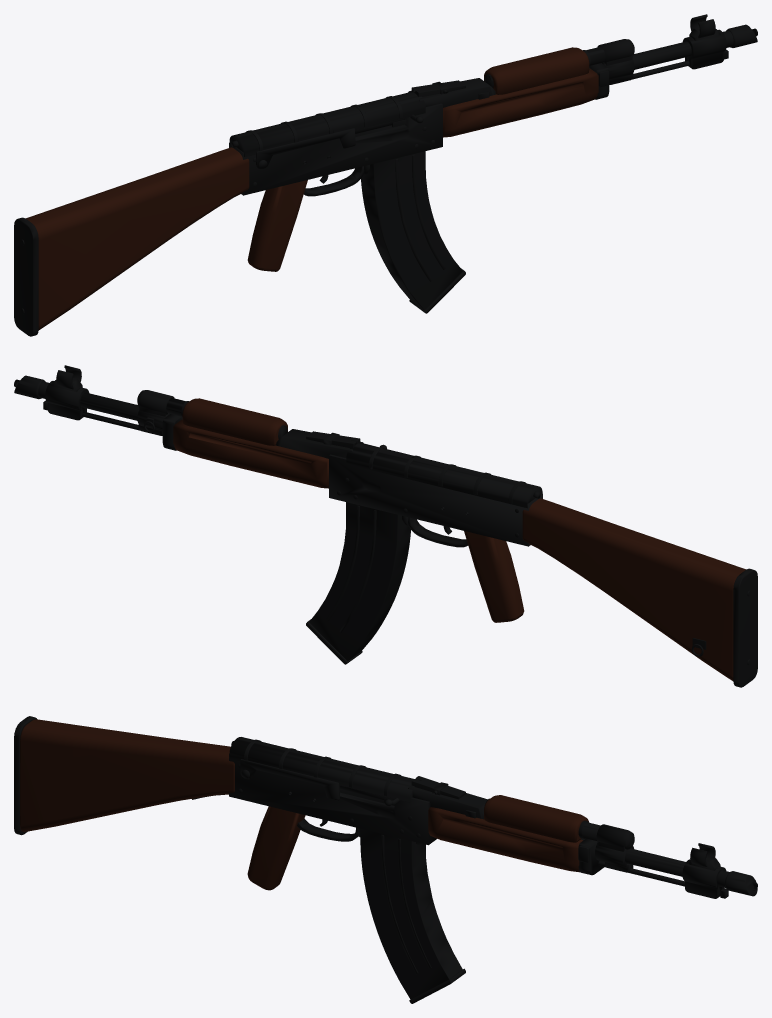
Rendered from r_krait.glb.
3 renders of one model, top to bottom at view 1: azimuth 30°, elevation 25°; view 2: azimuth 150°, elevation 25°; view 3: azimuth 330°, elevation 25°, orthographic.
Parts seen in each view (by area): view 1: SM_W_r_krait; view 2: SM_W_r_krait; view 3: SM_W_r_krait.
Part boxes in pixels (x1,y1,x2,y2): SM_W_r_krait: [14, 14, 757, 336]; SM_W_r_krait: [14, 365, 757, 687]; SM_W_r_krait: [14, 716, 757, 1003].
Size of the model in its own units: 0.8822 by 0.2532 by 0.0607.
